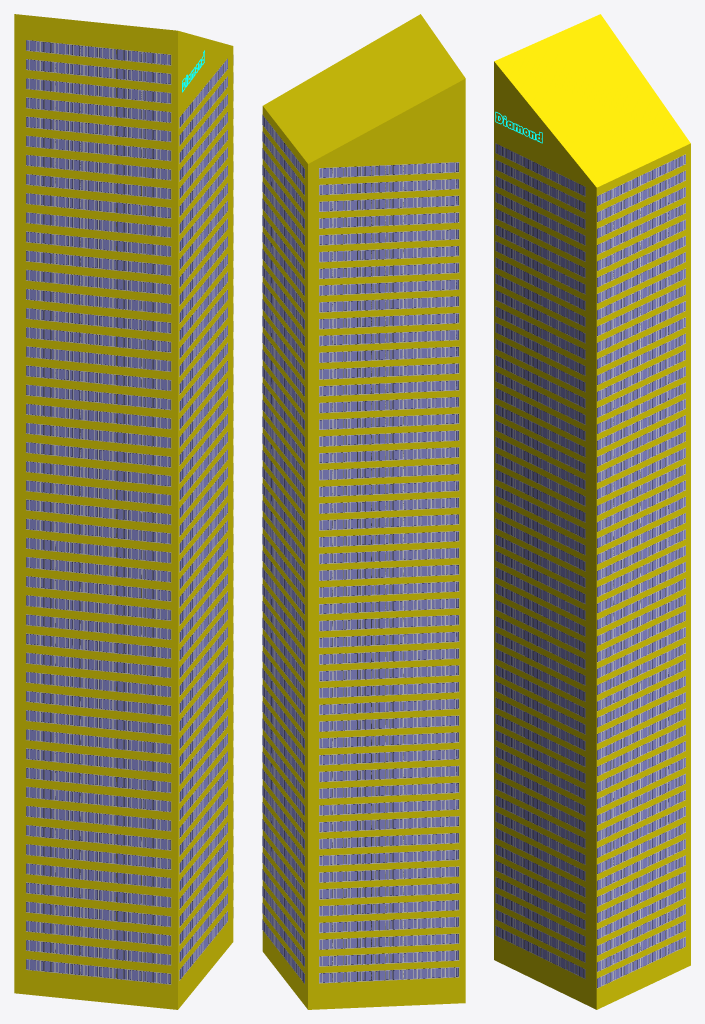
The model's file is DiamondTower.fbx.
3 views of the same model, side by side, from view 1: azimuth 30°, elevation 25°; view 2: azimuth 150°, elevation 25°; view 3: azimuth 270°, elevation 25° (orthographic). The views are drawn at different scales.
Parts seen in each view (by area): view 1: DiamondTower, Window.001, Window, Window.003; view 2: DiamondTower, Window.002, Window.003; view 3: DiamondTower, Window, Window.003.
Part boxes in pixels (left/top/right/bottom): DiamondTower: left=14, top=14, right=233, bottom=1009; Window.001: left=26, top=40, right=171, bottom=984; Window: left=179, top=58, right=227, bottom=980; Window.003: left=233, top=55, right=233, bottom=917; DiamondTower: left=262, top=14, right=465, bottom=1009; Window.002: left=319, top=162, right=459, bottom=983; Window.003: left=262, top=115, right=304, bottom=983; DiamondTower: left=494, top=14, right=690, bottom=1009; Window: left=495, top=143, right=585, bottom=979; Window.003: left=597, top=154, right=685, bottom=988.
Bounding box in the file's own units: 4183 × 17998 × 3569.
